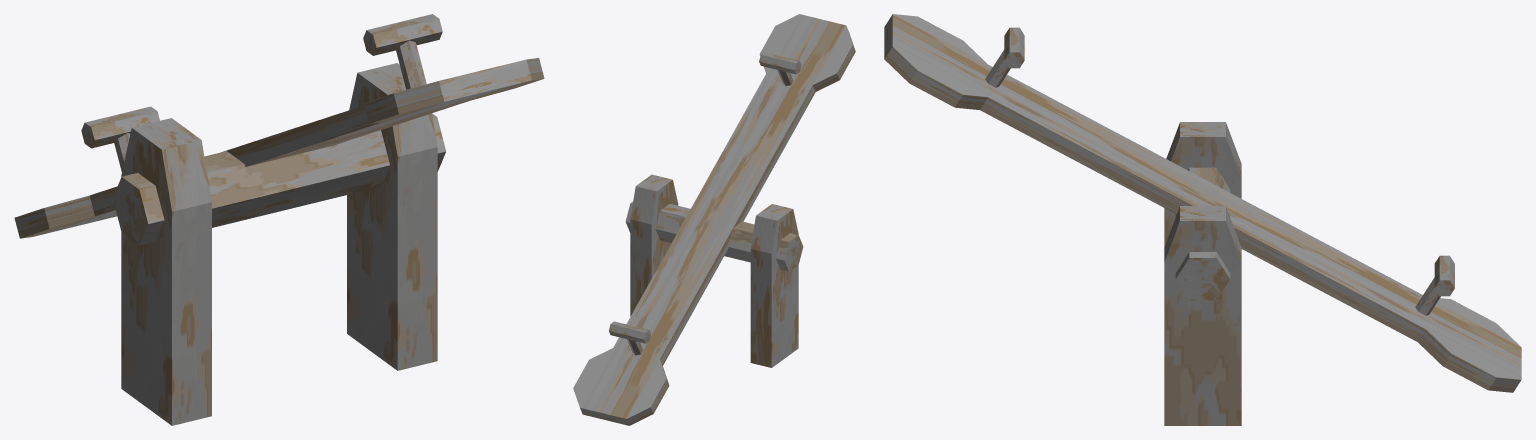
Rendered from Seesaw.fbx.
3 views of the same model, side by side, from view 1: azimuth 30°, elevation 25°; view 2: azimuth 150°, elevation 25°; view 3: azimuth 270°, elevation 25° (orthographic). The views are drawn at different scales.
Parts seen in each view (by area): view 1: Cube.003, Cube.001, Cylinder.002, Cylinder; view 2: Cylinder.002, Cube.003, Cube.001, Cylinder; view 3: Cylinder.002, Cube.001, Cube.003, Cylinder.
Part boxes in pixels (left/top/right/bottom): Cube.003: left=121, top=118, right=211, bottom=425; Cube.001: left=347, top=63, right=437, bottom=370; Cylinder.002: left=14, top=14, right=544, bottom=238; Cylinder: left=112, top=113, right=445, bottom=245; Cylinder.002: left=573, top=14, right=855, bottom=425; Cube.003: left=750, top=204, right=798, bottom=367; Cube.001: left=630, top=174, right=678, bottom=316; Cylinder: left=625, top=201, right=803, bottom=271; Cylinder.002: left=884, top=14, right=1521, bottom=392; Cube.001: left=1164, top=206, right=1241, bottom=425; Cube.003: left=1164, top=122, right=1241, bottom=246; Cylinder: left=1175, top=167, right=1230, bottom=300.
Bounding box in the file's own units: 680 × 990 × 1651.
1 material, 1 textured.
